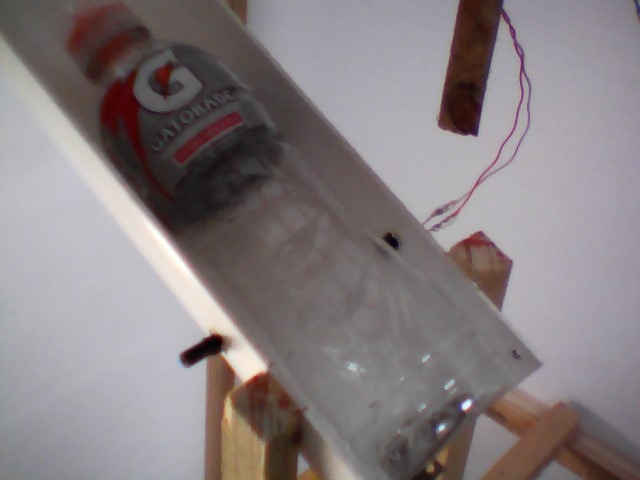plastico: (63, 6, 524, 477)
